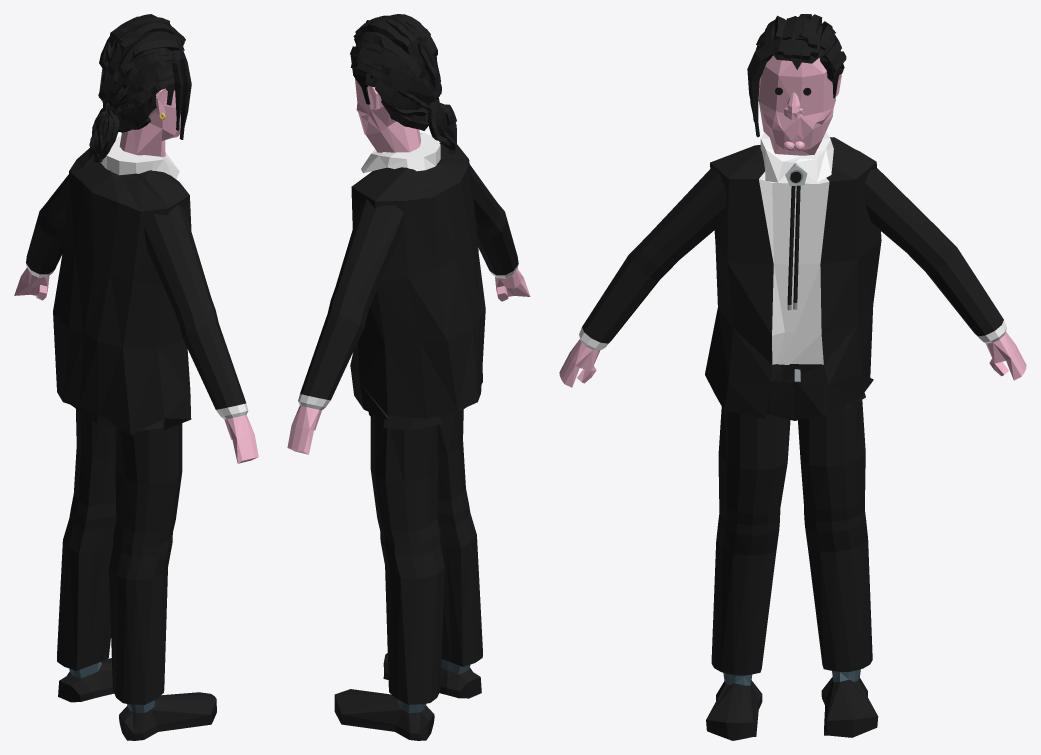
Rendered from scene_cbP2y5HD5s.glb.
3 renders of one model, left to right at view 1: azimuth 30°, elevation 25°; view 2: azimuth 150°, elevation 25°; view 3: azimuth 270°, elevation 25°, orthographic. The views are drawn at different scales.
Parts seen in each view (by area): view 1: group745186223, group99278640, group188744576, group893585580, group1710677455, group1193905917, group1194465909, group738649036; view 2: group745186223, group188744576, group893585580, group1193905917, group99278640, group1710677455, group1194465909, group738649036; view 3: group745186223, group99278640, group188744576, group893585580, group1710677455, group1193905917, group738649036, group1194465909, group1482756148.
Part boxes in pixels (left/top/right/bottom): group745186223: left=53, top=148, right=191, bottom=435; group99278640: left=108, top=419, right=216, bottom=740; group188744576: left=57, top=408, right=116, bottom=702; group893585580: left=89, top=14, right=191, bottom=162; group1710677455: left=143, top=204, right=258, bottom=463; group1193905917: left=14, top=175, right=68, bottom=300; group1194465909: left=100, top=136, right=179, bottom=178; group738649036: left=71, top=405, right=164, bottom=430; group745186223: left=350, top=143, right=485, bottom=419; group188744576: left=334, top=413, right=444, bottom=740; group893585580: left=350, top=14, right=456, bottom=154; group1193905917: left=287, top=199, right=404, bottom=454; group99278640: left=383, top=409, right=482, bottom=698; group1710677455: left=469, top=164, right=530, bottom=301; group1194465909: left=361, top=132, right=440, bottom=173; group738649036: left=368, top=407, right=466, bottom=430; group745186223: left=705, top=137, right=881, bottom=418; group99278640: left=706, top=407, right=790, bottom=740; group188744576: left=798, top=398, right=878, bottom=737; group893585580: left=747, top=14, right=846, bottom=155; group1710677455: left=559, top=168, right=725, bottom=387; group1193905917: left=865, top=168, right=1026, bottom=380; group738649036: left=766, top=381, right=865, bottom=420; group1194465909: left=760, top=132, right=833, bottom=182; group1482756148: left=785, top=163, right=807, bottom=310.
Size of the model in its own units: 0.3529 by 1.91 by 1.14.
